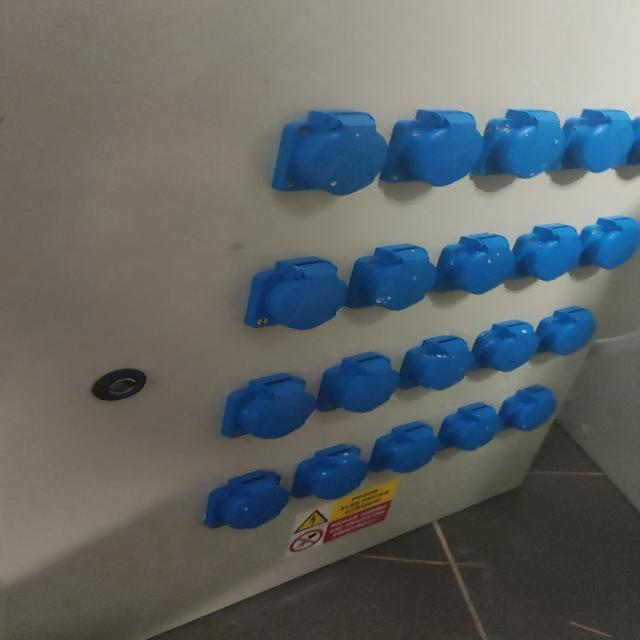house plug covered: (271, 111, 389, 197), (380, 110, 488, 190), (244, 258, 348, 332), (471, 109, 565, 180), (220, 378, 319, 441), (343, 244, 436, 311), (546, 109, 640, 174), (204, 472, 290, 532), (433, 233, 515, 295), (317, 354, 398, 414), (289, 444, 372, 500), (512, 223, 582, 282), (398, 336, 472, 391), (579, 216, 640, 271), (473, 321, 537, 372), (373, 424, 440, 472), (437, 402, 502, 451), (537, 308, 596, 357), (500, 387, 557, 432)
